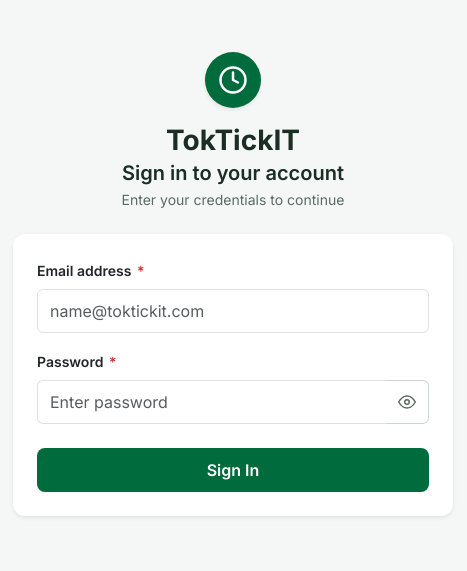
Test case: Login Component — UI-01 (AC-01, FR-01, FR-02) › displays error banner on invalid credentials or inactive account rejection (AC-05, BR-01)
Type "wrong@example.com" into the field labelled "Email address *". click: (233,311)
box: [37,289,429,333]
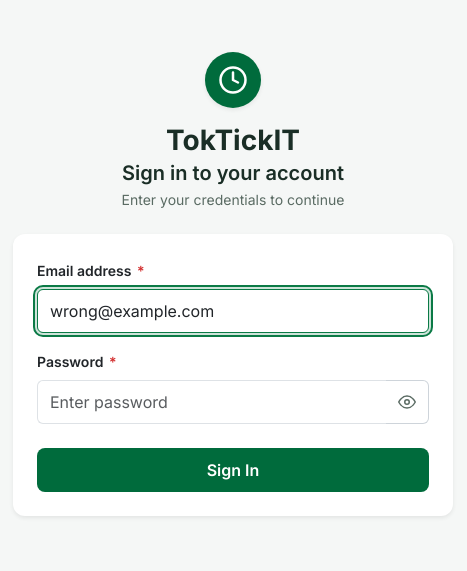
Type "WrongPass123!" into the password field labelled "Password *". click: (212,402)
box: [37,380,387,424]
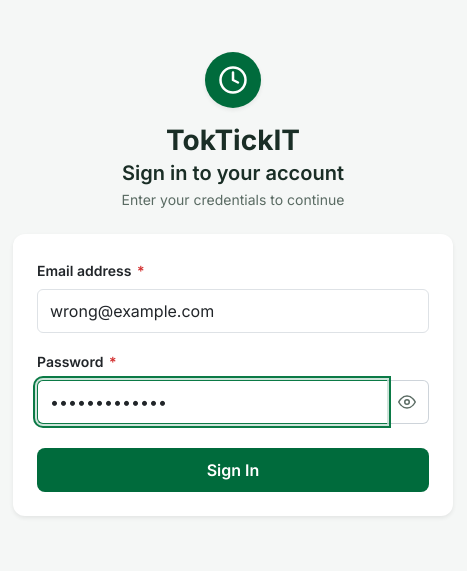
Click the button "Sign In". click: (233,470)
box: [37,448,429,492]
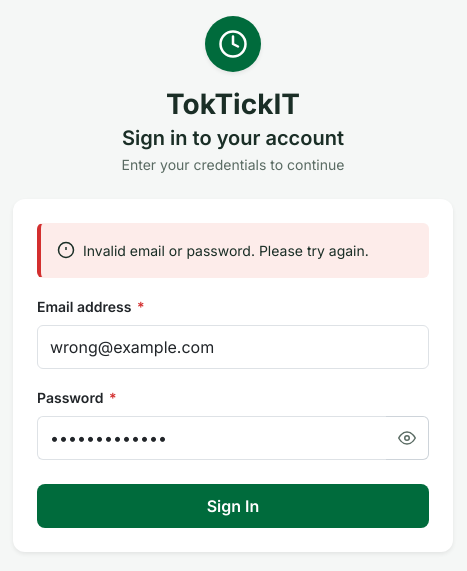
Now the message reads "Invalid email or password. Please try again.", box [83,242,369,259]
